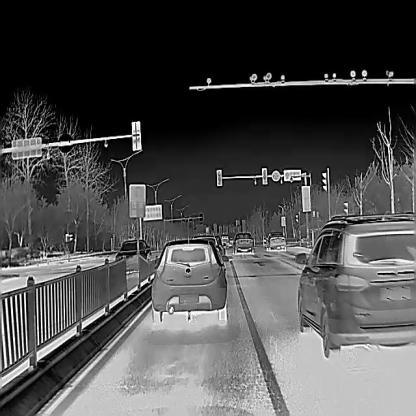car: (293, 216, 415, 358), (149, 240, 229, 322), (114, 239, 151, 273), (191, 236, 222, 262), (233, 231, 253, 252), (264, 231, 286, 249), (214, 236, 226, 256)
truck: (220, 236, 230, 248)
